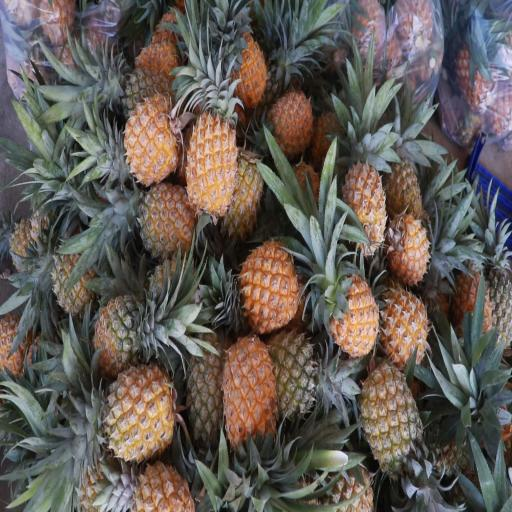------------------------------: (357, 361, 426, 495), (176, 318, 236, 446), (88, 295, 151, 385), (39, 240, 99, 317)
Pineapple - v8 v1: (92, 365, 178, 469), (221, 322, 278, 463), (180, 95, 236, 222), (123, 158, 196, 252), (234, 237, 300, 334), (338, 134, 388, 257), (324, 248, 379, 354), (121, 88, 176, 193), (377, 263, 428, 355), (262, 80, 315, 162), (132, 450, 200, 512), (383, 195, 432, 279), (224, 20, 268, 104)
